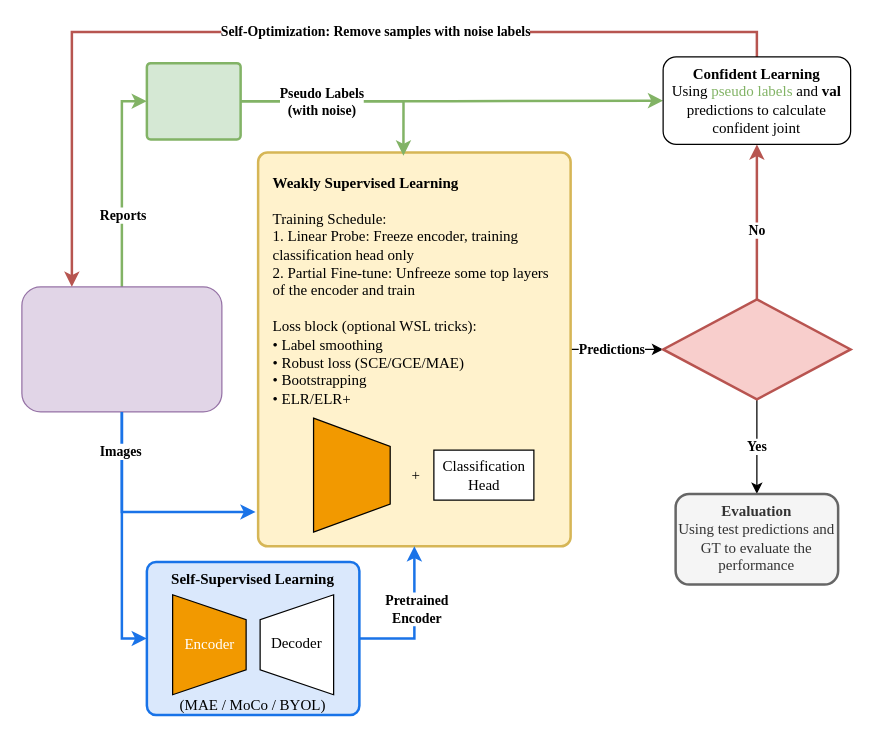
This 874x738 diagram has some shape labels left out. The shapes that lost their labels are listed below. From the top down, each one's box as (x1, y1, x2, y2) in pixels, then its label:
(145, 61, 241, 140): Large Language Model
(21, 286, 222, 412): Dataset Images + Reports + Ground Truth
(661, 298, 851, 400): If confident learning was applied?
(312, 417, 390, 532): Pretrain Encoder
